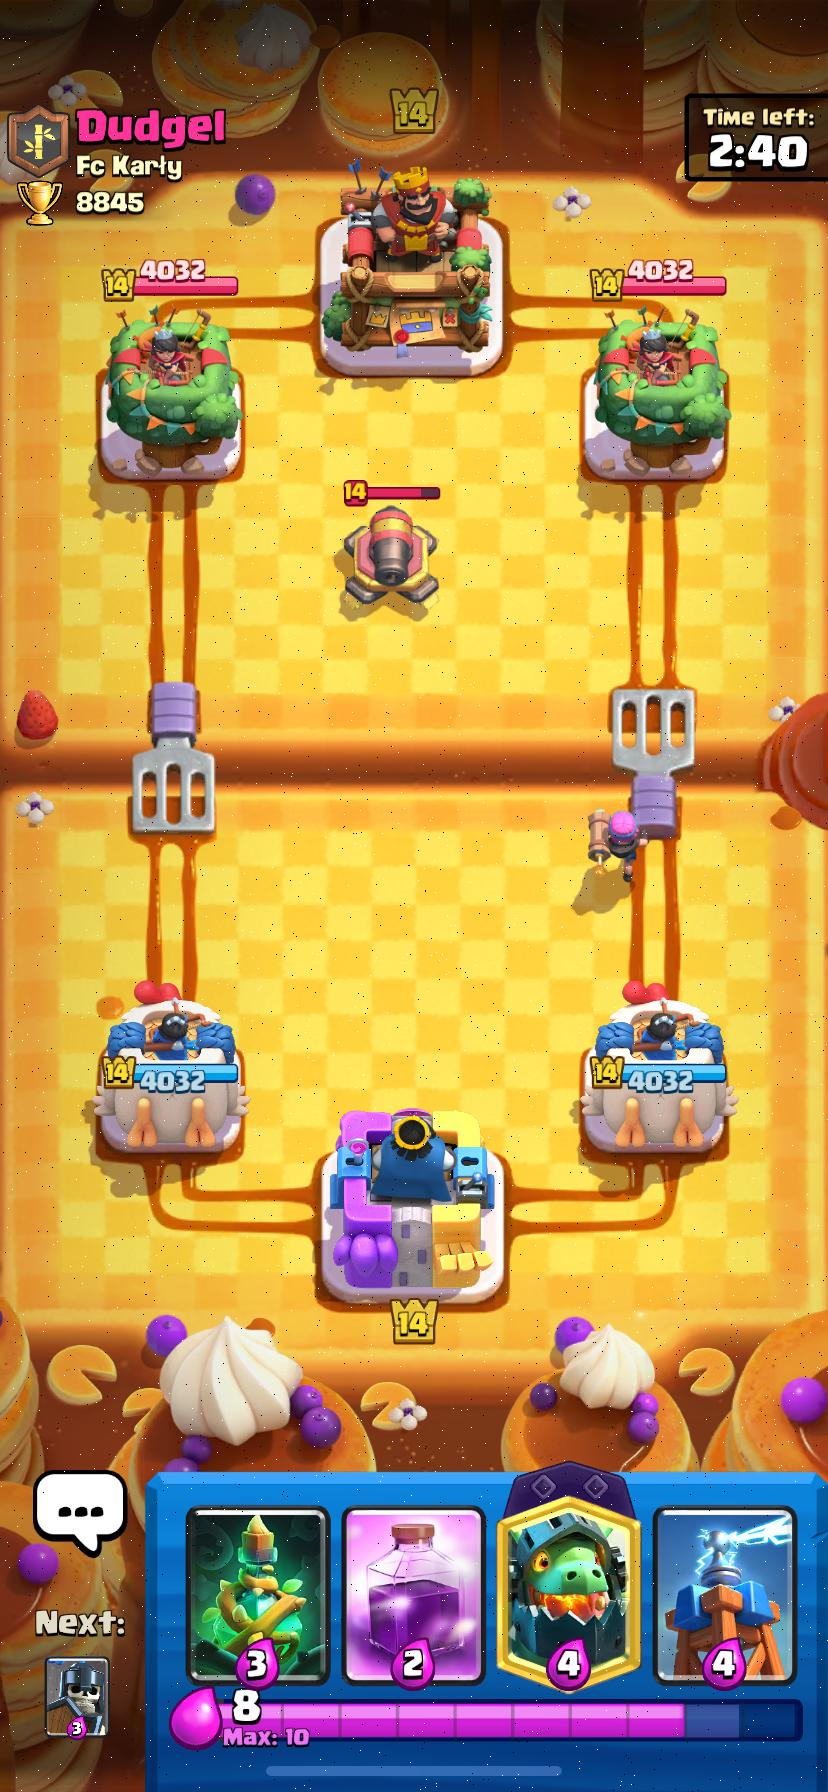EKingTower: (323, 167, 491, 351)
Ecan: (343, 503, 438, 609)
EnemyPrincessTower: (108, 311, 242, 477), (595, 311, 729, 473)
OFirecrack: (588, 808, 647, 885)
OwnKingTower: (331, 1109, 493, 1301)
OwnPrincessTower: (93, 983, 248, 1152), (580, 983, 735, 1151)
